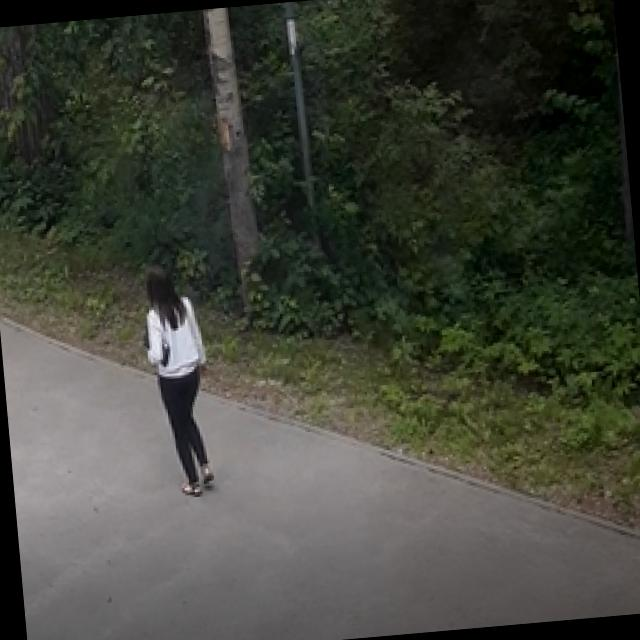person: (132, 262, 219, 496)
